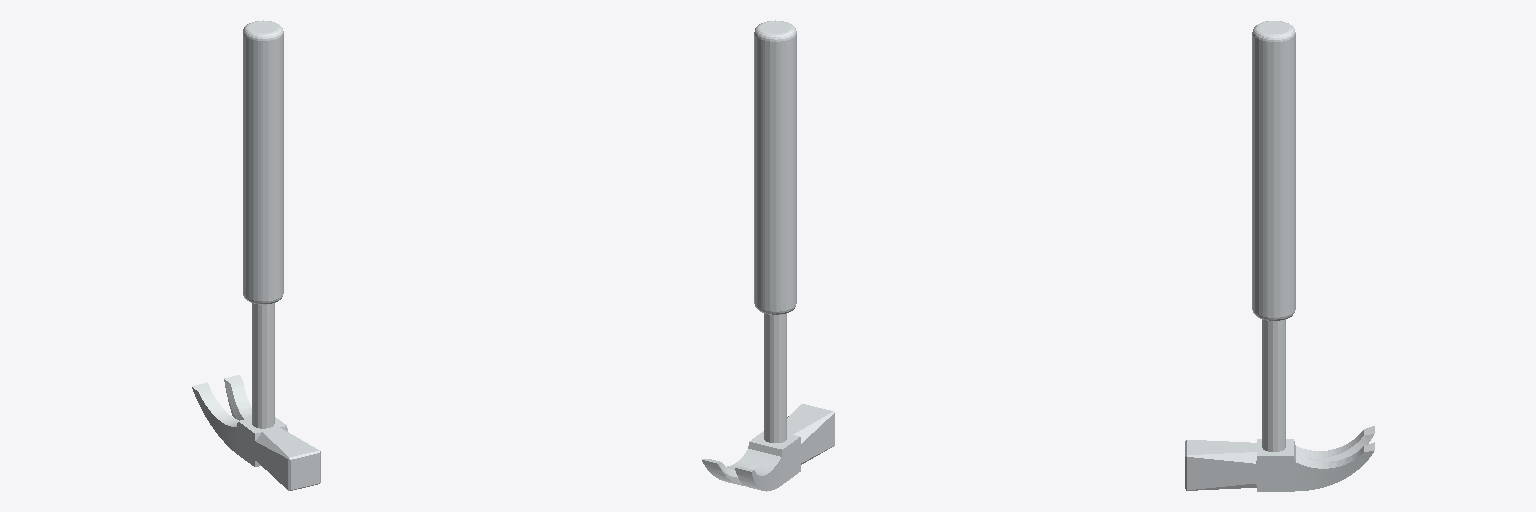
URDF robot description (table_description):
<?xml version="1.0" encoding="utf-8"?>
<!-- This URDF was automatically created by SolidWorks to URDF Exporter! Originally created by [author] ([email redacted]) 
     Commit Version: 1.6.0-4-g7f85cfe  Build Version: 1.6.7995.38578
     For more information, please see http://wiki.ros.org/sw_urdf_exporter -->
<robot
  name="table_description">
  <link
    name="base_link">
    <inertial>
      <origin
        xyz="0.25 0.43706 -0.4"
        rpy="0 0 0" />
      <mass
        value="45.9" />
      <inertia
        ixx="4.5821"
        ixy="4.9393E-15"
        ixz="8.4093E-15"
        iyy="4.9905"
        iyz="1.0099E-14"
        izz="2.3141" />
    </inertial>
    <visual>
      <origin
        xyz="0 0 0"
        rpy="0 0 0" />
      <geometry>
        <mesh
          filename="package://table_description/meshes/base_link.STL" />
      </geometry>
      <material
        name="">
        <color
          rgba="0.89804 0.91765 0.92941 1" />
      </material>
    </visual>
    <collision>
      <origin
        xyz="0 0 0"
        rpy="0 0 0" />
      <geometry>
        <mesh
          filename="package://table_description/meshes/base_link.STL" />
      </geometry>
    </collision>
  </link>
</robot>

--- Render facts (derived) ---
The picture shows the robot from 3 angles, left to right: view 1: azimuth 30°, elevation 25°; view 2: azimuth 150°, elevation 25°; view 3: azimuth 270°, elevation 25°; orthographic projection.
Robot: table_description — 1 links, 0 joints (none); root link base_link; default pose: all joints at 0.
Links seen in each view (by area): view 1: base_link; view 2: base_link; view 3: base_link.
Boxes of the visible links, left/top/right/bottom form: base_link: left=192, top=20, right=320, bottom=490; base_link: left=702, top=20, right=834, bottom=491; base_link: left=1185, top=21, right=1374, bottom=491.
Bounding box of the posed robot: 0.03 × 0.096 × 0.2545 m (x, y, z).
Meshes: 1 distinct files referenced, 1 mesh visuals loaded (1 binary STL).